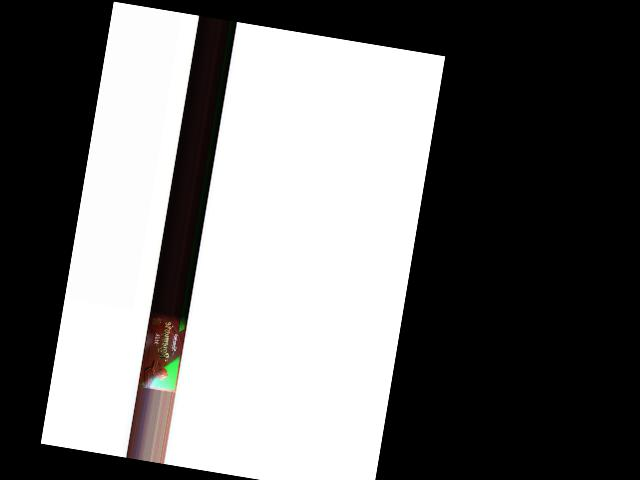chocolate: (138, 309, 187, 391)
